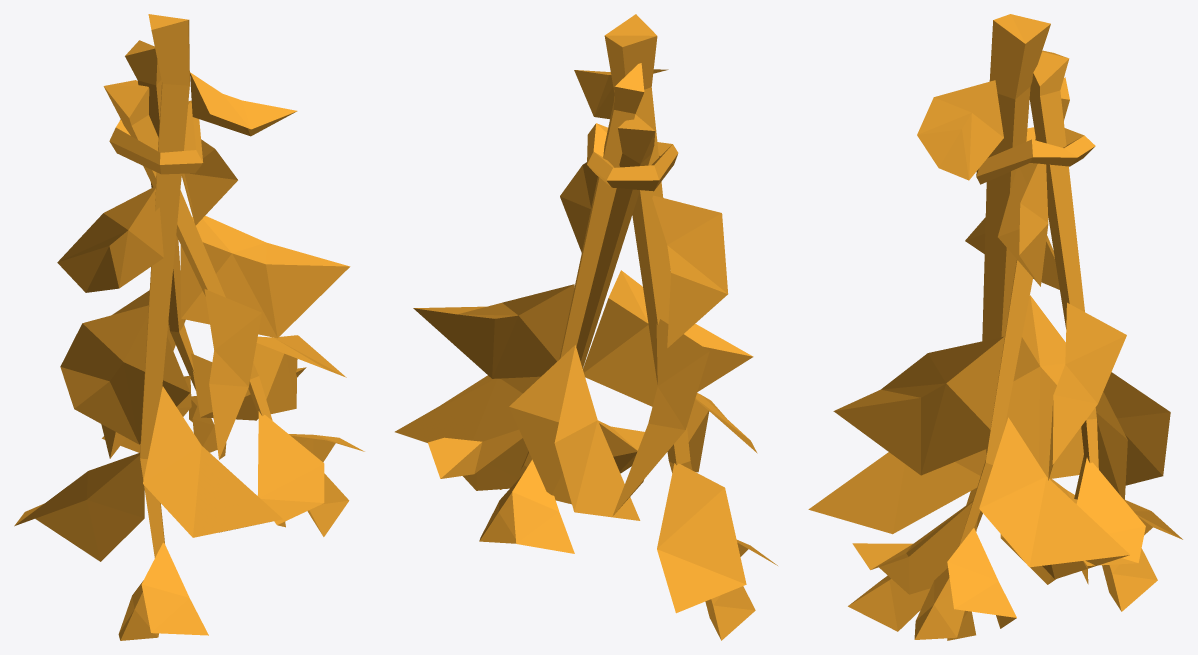
Rendered from SM_Herbs_Fresh_A_001.fbx.
3 views of the same model, side by side, from view 1: azimuth 30°, elevation 25°; view 2: azimuth 150°, elevation 25°; view 3: azimuth 270°, elevation 25° (orthographic). The views are drawn at different scales.
Visible parts, largest first — view 1: herbs-fresh-a.001; view 2: herbs-fresh-a.001; view 3: herbs-fresh-a.001.
Part boxes in pixels (<box>): herbs-fresh-a.001: <box>14,14,364,640</box>; herbs-fresh-a.001: <box>395,14,777,640</box>; herbs-fresh-a.001: <box>808,14,1182,640</box>.
Bounding box in the file's own units: 0.1955 × 0.3375 × 0.1752.
